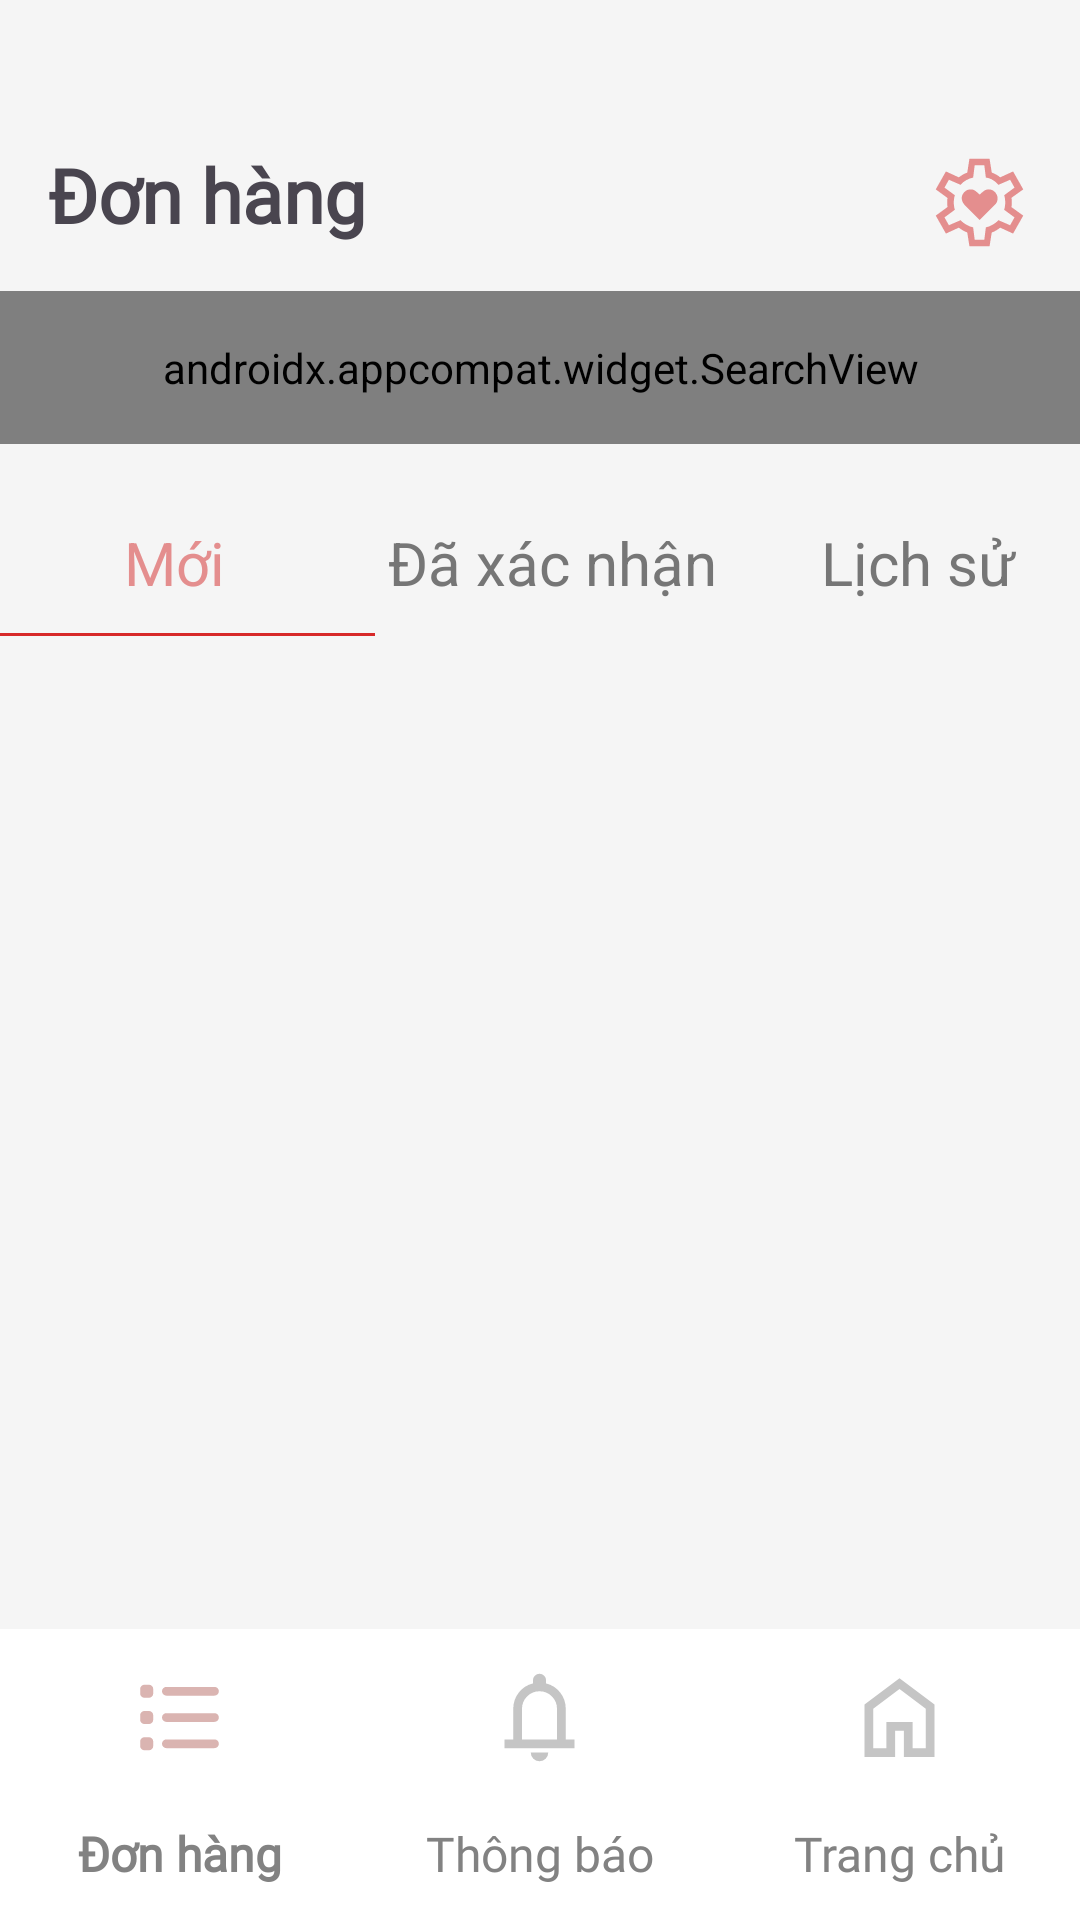

Named icons in this screenshot (1080×1920) and their bounding boxes, (x1, y1, x2, y2):
settings heart: (936, 158, 1023, 247)
